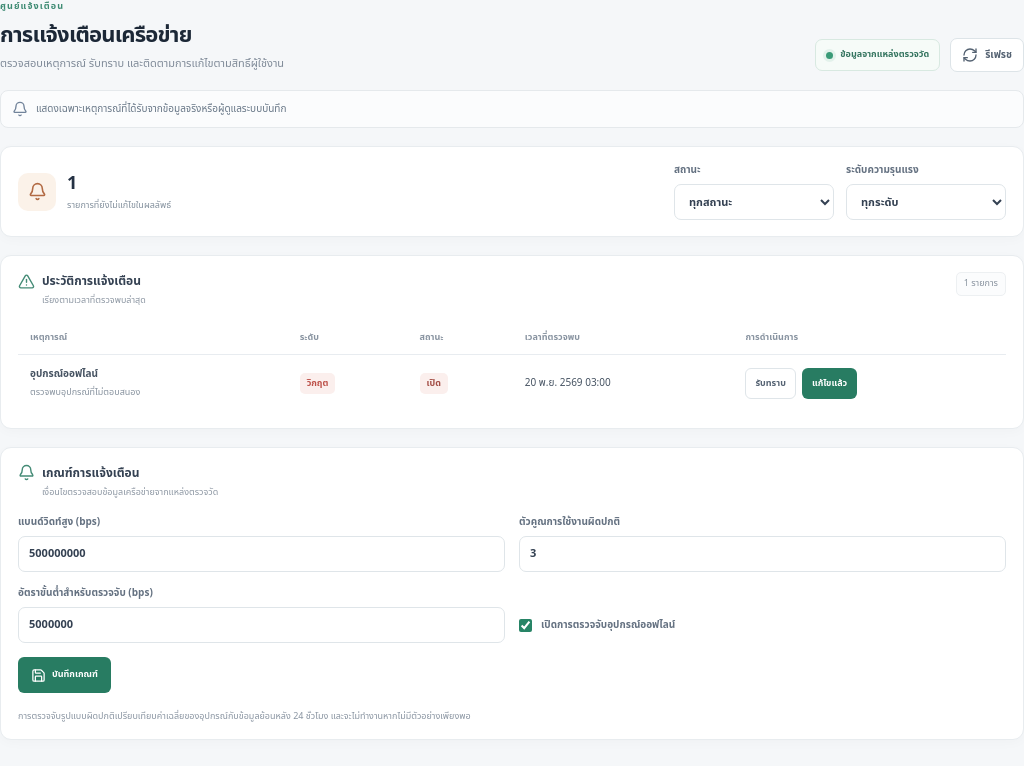
Test: alert management page › shows alerts and lets administrators acknowledge them
Expected: the text "อุปกรณ์ออฟไลน์" is shown, [30,366,98,382]
Click the button "รับทราบ" at (771, 383), box [745,368,796,399]
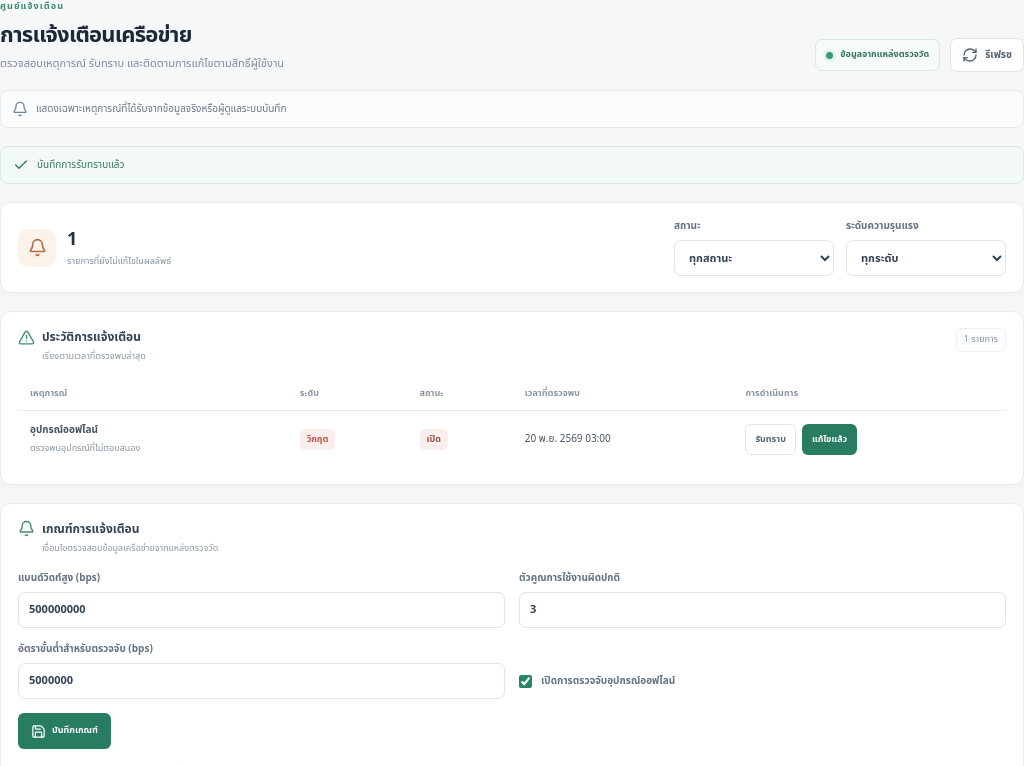
Now the text "บันทึกการรับทราบแล้ว" is shown, box [0,146,1023,184]
